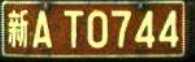A: (33, 11, 52, 48)
